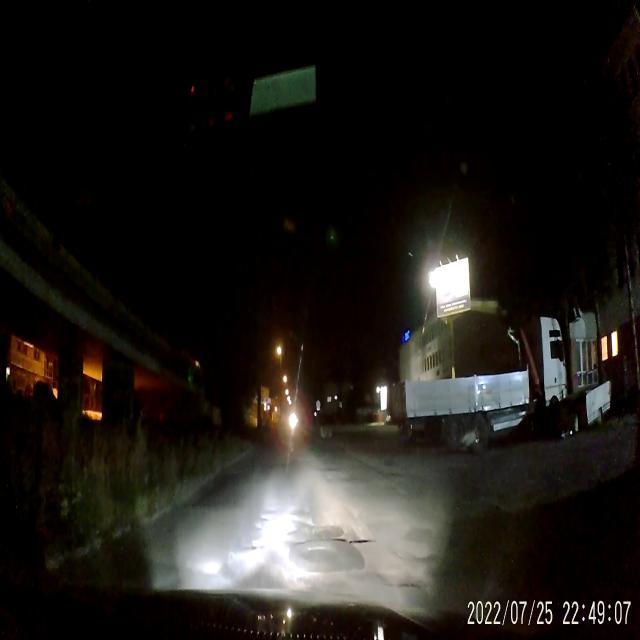Manhole: (406, 524, 444, 548), (300, 544, 336, 566), (312, 522, 346, 542)
Pothole: (378, 572, 432, 594), (341, 530, 374, 548)
